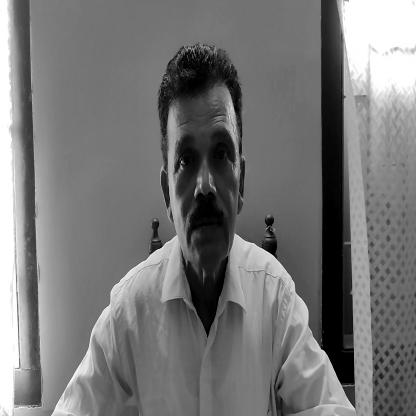Normal: (159, 42, 245, 258)
